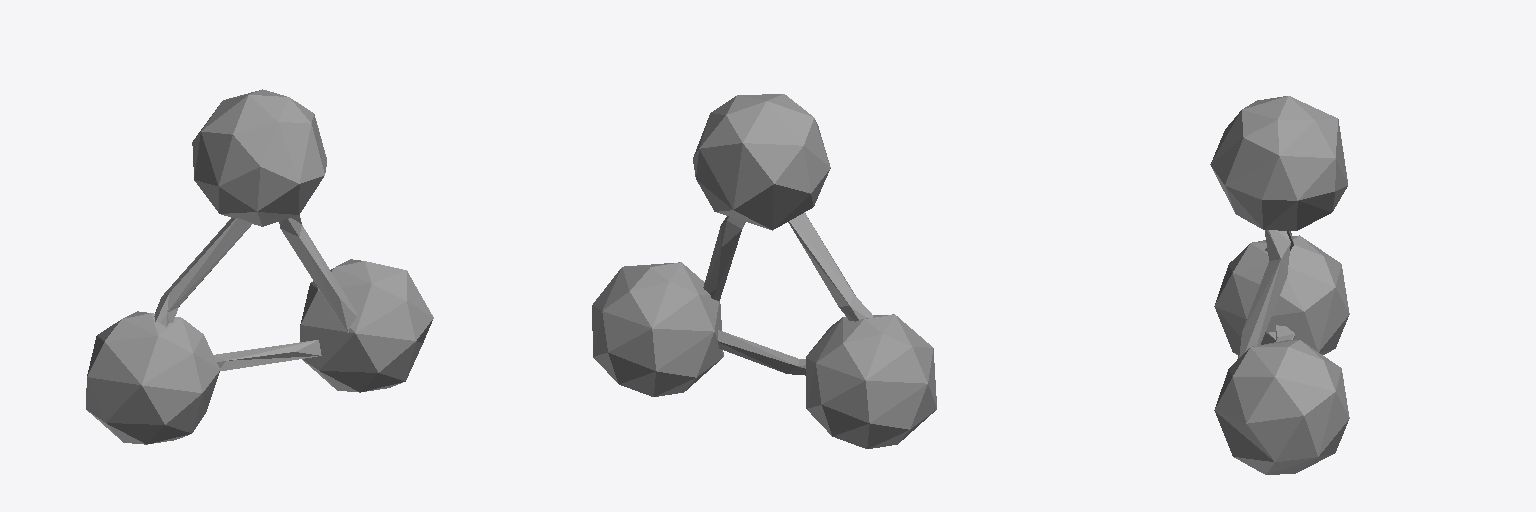
Rendered from 3_triangle.obj.
3 renders of one model, left to right at view 1: azimuth 30°, elevation 25°; view 2: azimuth 150°, elevation 25°; view 3: azimuth 270°, elevation 25°, orthographic.
Visible parts, largest first — view 1: Sphere.002, Sphere.001, Sphere, BezierCurve.001_Mesh.001; view 2: Sphere.002, Sphere.001, Sphere, BezierCurve.001_Mesh.001; view 3: Sphere.002, Sphere, Sphere.001, BezierCurve.001_Mesh.001.
Boxes of the visible parts, x1=… form: Sphere.002: x1=192, y1=89, x2=326, y2=226; Sphere.001: x1=86, y1=311, x2=219, y2=444; Sphere: x1=300, y1=259, x2=433, y2=392; BezierCurve.001_Mesh.001: x1=154, y1=215, x2=356, y2=370; Sphere.002: x1=693, y1=94, x2=830, y2=230; Sphere.001: x1=806, y1=314, x2=936, y2=448; Sphere: x1=592, y1=262, x2=723, y2=396; BezierCurve.001_Mesh.001: x1=703, y1=212, x2=873, y2=375; Sphere.002: x1=1210, y1=96, x2=1347, y2=230; Sphere: x1=1214, y1=340, x2=1349, y2=474; Sphere.001: x1=1214, y1=235, x2=1349, y2=354; BezierCurve.001_Mesh.001: x1=1237, y1=230, x2=1294, y2=359.
Size of the model in its own units: 5.6 by 5.17 by 2.05.